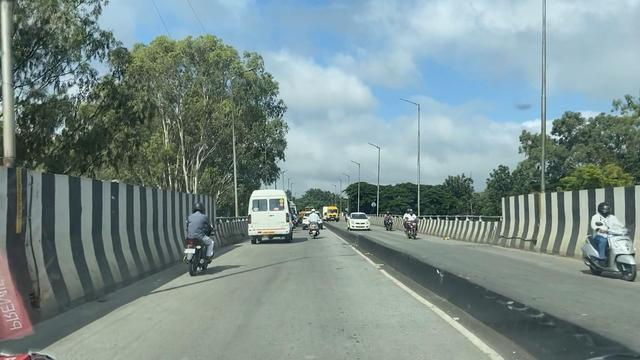HMV: (247, 188, 293, 244)
LMV: (183, 203, 210, 279), (308, 207, 320, 242)
